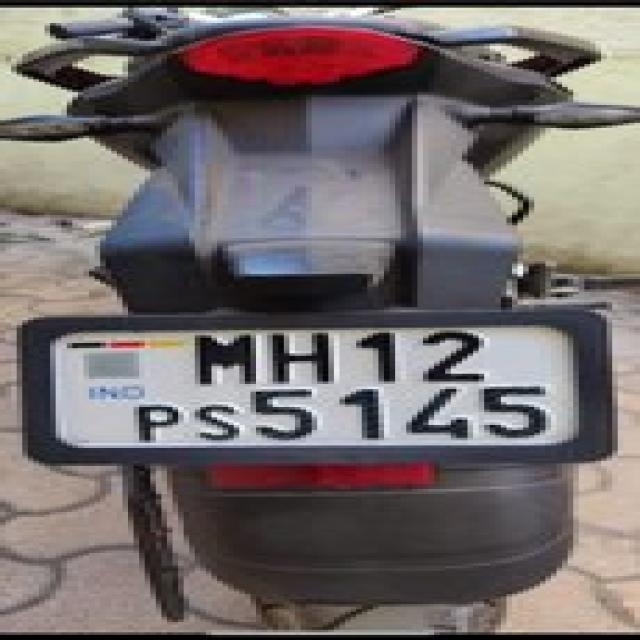license_plate: (17, 307, 612, 463)
